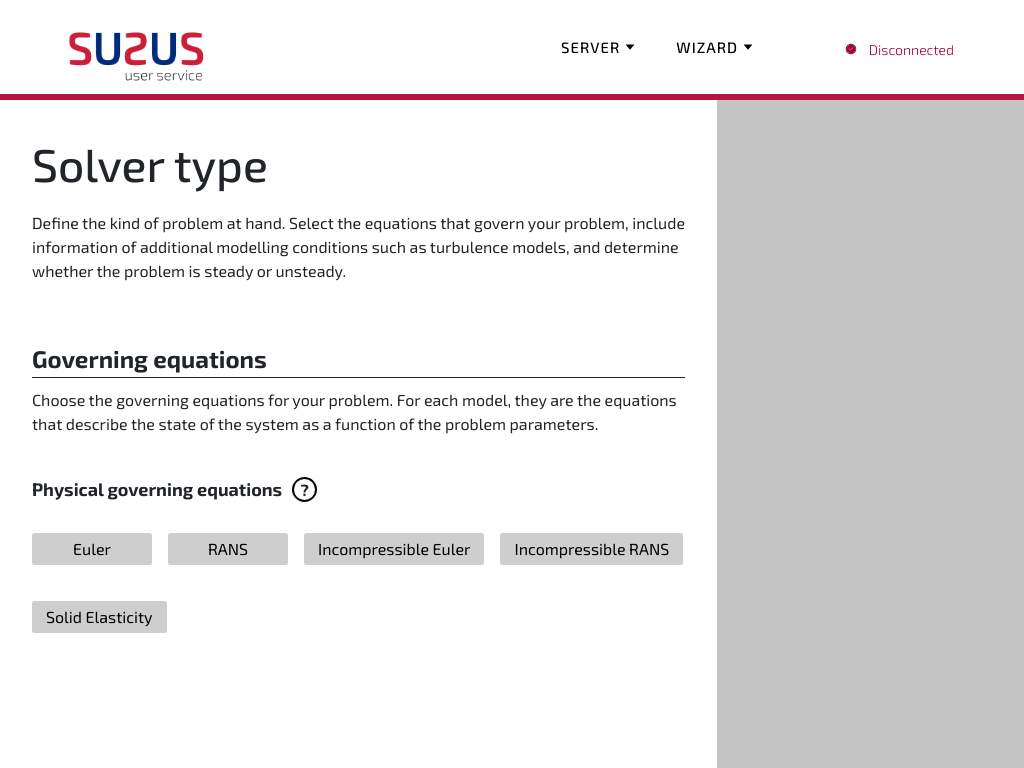
New empty wizard › Solver type page › Goberning equations › Physical governing equations
Click the button "RANS".
click(228, 549)  # box [168,533,288,565]
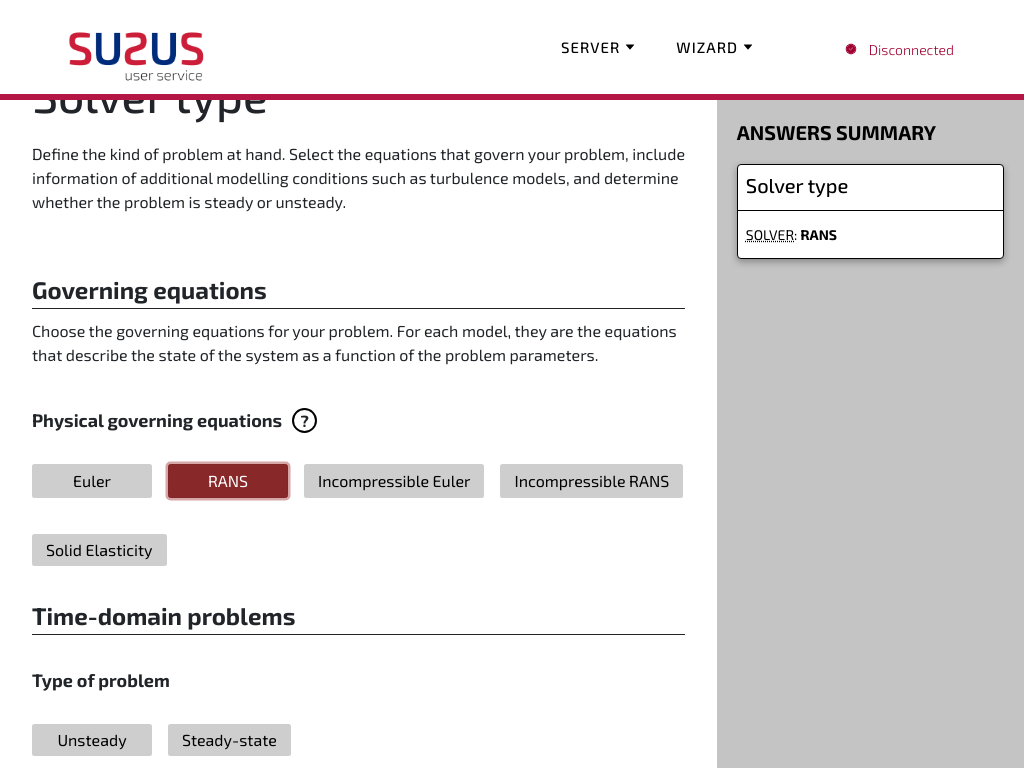
Expected: the text "SOLVER: RANS" is shown, [746,226,837,243]
